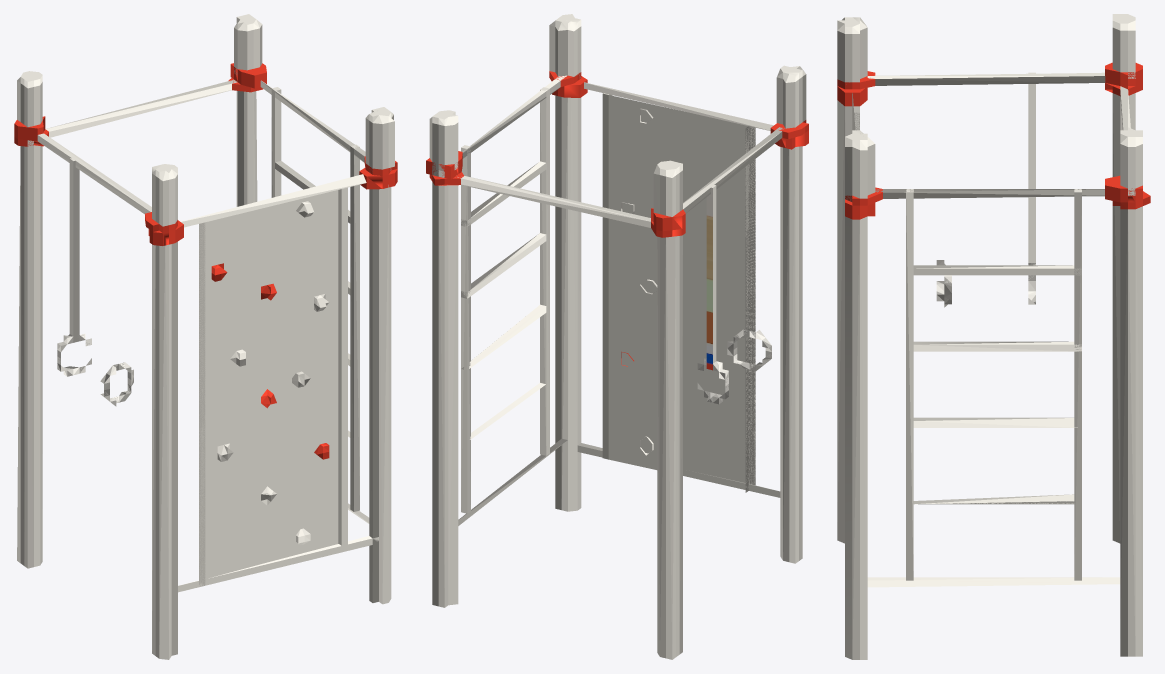
Rendered from Детский комплекс_3.glb.
3 renders of one model, left to right at view 1: azimuth 30°, elevation 25°; view 2: azimuth 150°, elevation 25°; view 3: azimuth 270°, elevation 25°, orthographic. The views are drawn at different scales.
Parts seen in each view (by area): view 1: Curbed_Area001.004; view 2: Curbed_Area001.004; view 3: Curbed_Area001.004.
Part boxes in pixels (x1,y1,x2,y2): Curbed_Area001.004: [14, 14, 397, 659]; Curbed_Area001.004: [426, 14, 808, 659]; Curbed_Area001.004: [837, 14, 1150, 659].
Bounding box in the file's own units: 1.4 × 2.57 × 1.4.
Materials: 1 (1 with a texture image).
